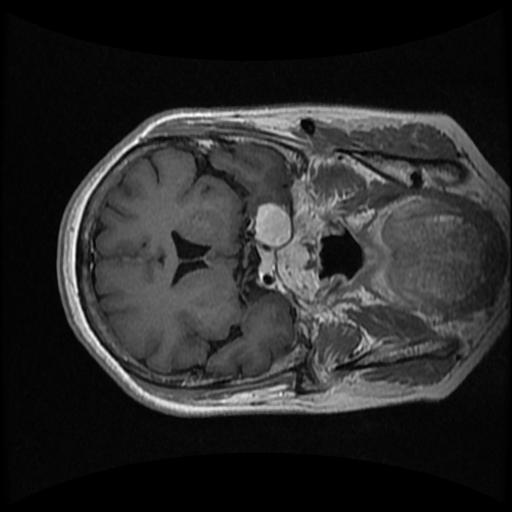meningioma: (253, 201, 292, 248)
